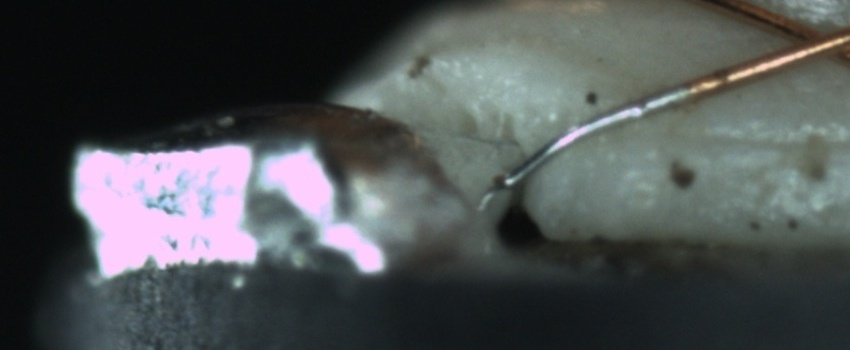CL: (765, 12, 849, 72)
DL: (671, 111, 849, 174)
TS: (503, 86, 687, 192)
